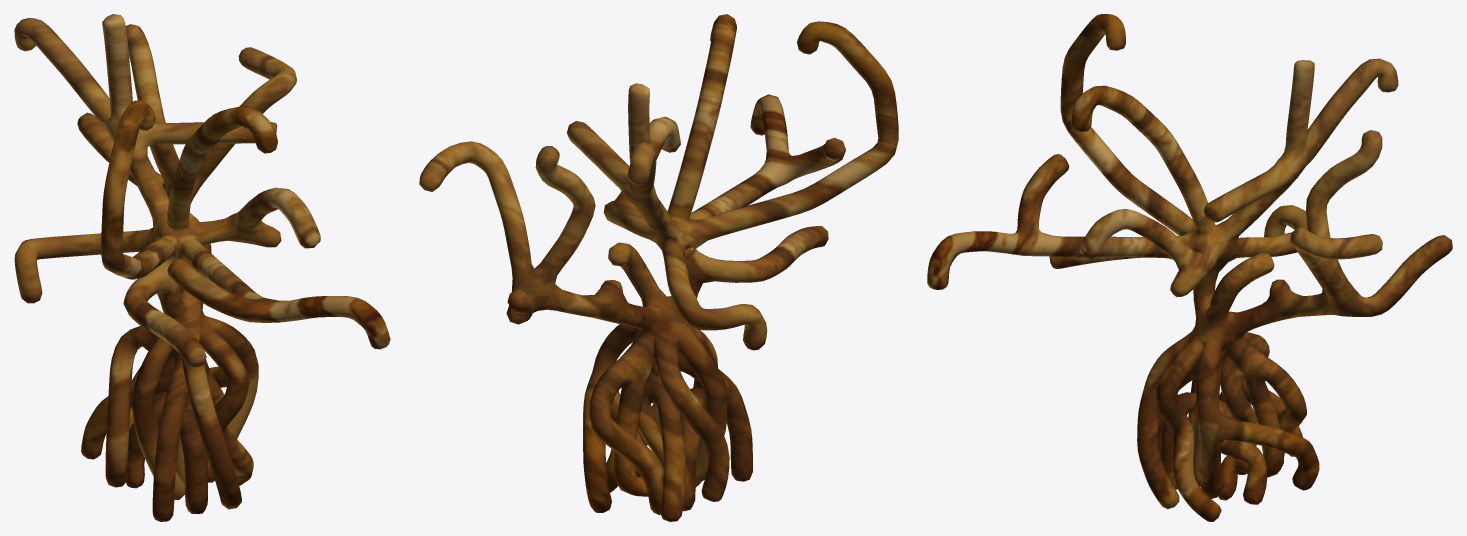
Rendered from Arbol_mANGLAR.fbx.
3 views of the same model, side by side, from view 1: azimuth 30°, elevation 25°; view 2: azimuth 150°, elevation 25°; view 3: azimuth 270°, elevation 25° (orthographic). The views are drawn at different scales.
Parts seen in each view (by area): view 1: Cube; view 2: Cube; view 3: Cube.
Boxes of the visible parts, x1=… form: Cube: x1=14, y1=14, x2=390, y2=521; Cube: x1=419, y1=14, x2=898, y2=521; Cube: x1=927, y1=14, x2=1452, y2=521.
Size of the model in its own units: 7.64 by 10.34 by 11.3.
